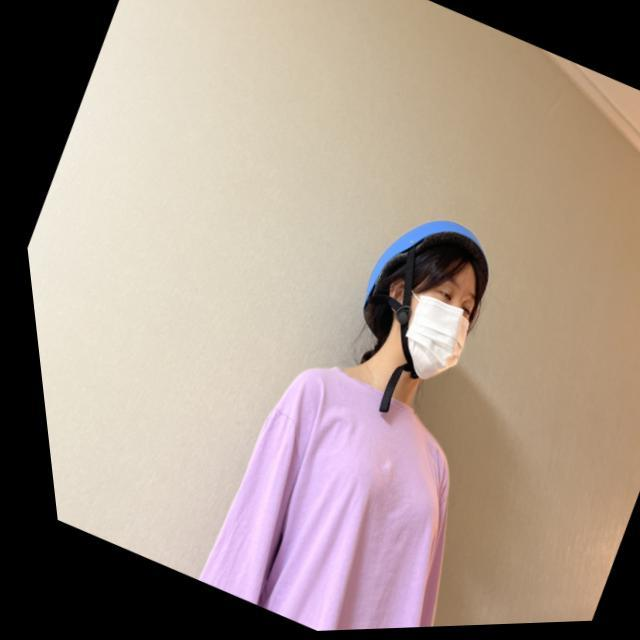Helmet: (356, 199, 496, 394)
